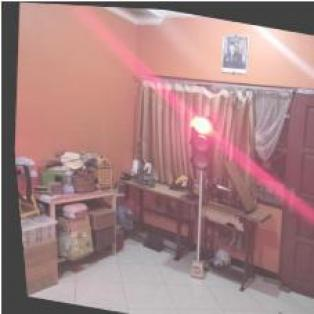Semaforo Rojo: (183, 111, 213, 167)
